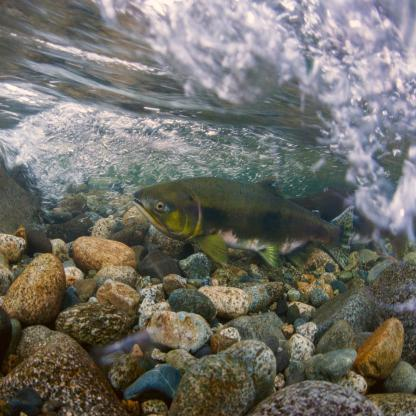fish: (134, 174, 356, 272)
